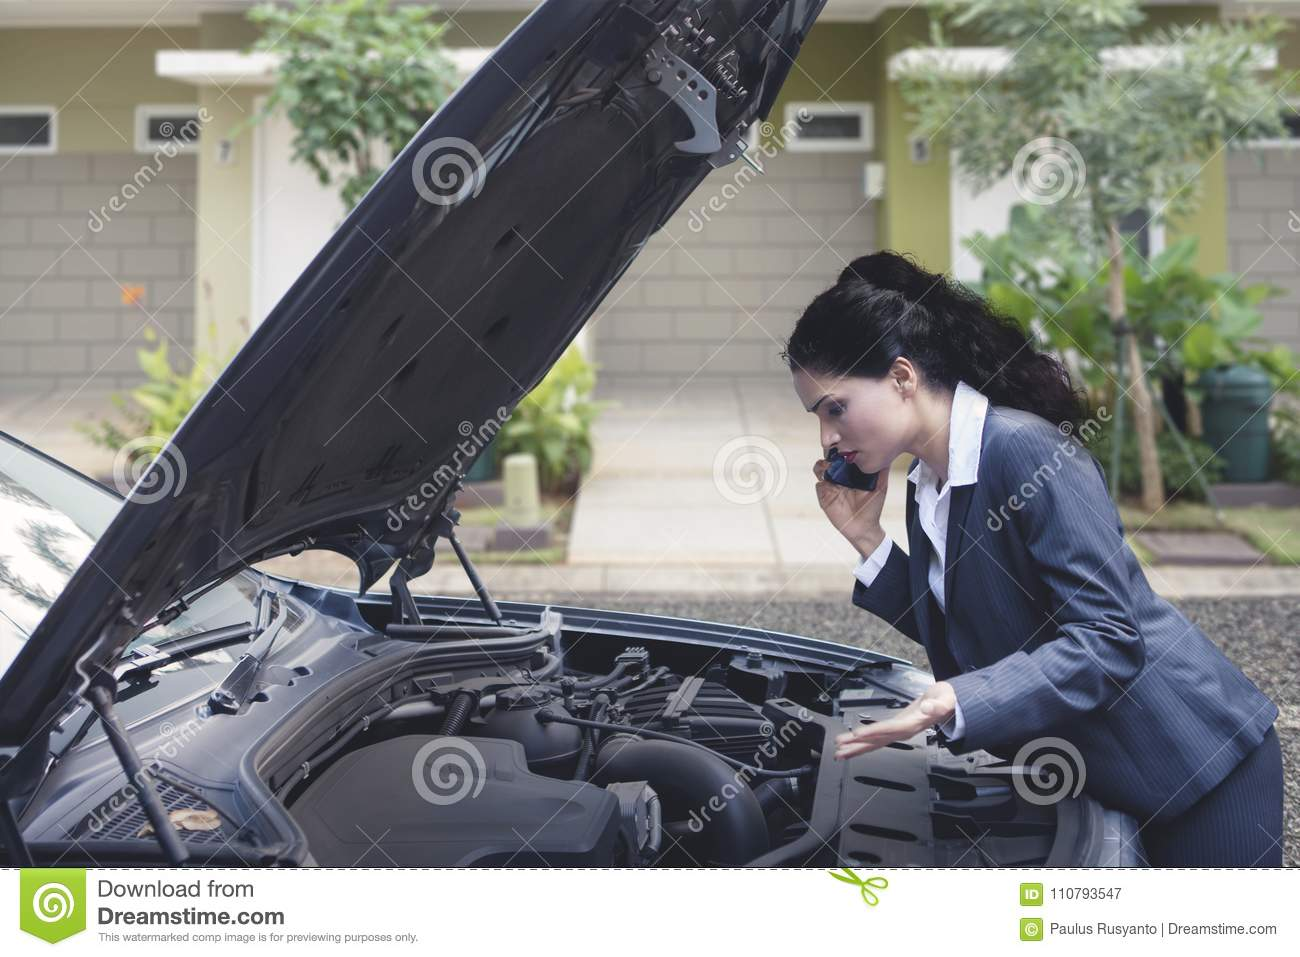phone: (820, 444, 882, 496)
talk: (803, 386, 894, 555)
